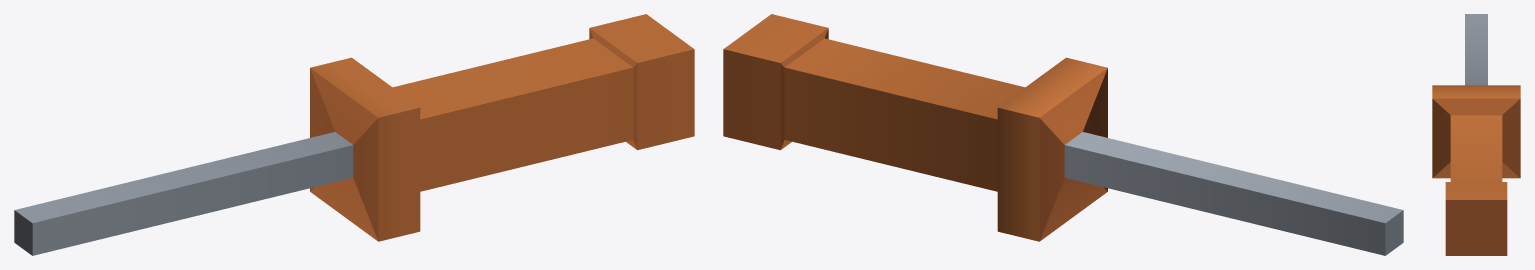
Rendered from AI_Item_Screwdriver.fbx.
3 renders of one model, left to right at view 1: azimuth 30°, elevation 25°; view 2: azimuth 150°, elevation 25°; view 3: azimuth 270°, elevation 25°, orthographic. The views are drawn at different scales.
Parts seen in each view (by area): view 1: AI_Item_Screwdriver; view 2: AI_Item_Screwdriver; view 3: AI_Item_Screwdriver.
Boxes of the visible parts, x1=… form: AI_Item_Screwdriver: x1=14, y1=14, x2=694, y2=255; AI_Item_Screwdriver: x1=723, y1=14, x2=1403, y2=255; AI_Item_Screwdriver: x1=1432, y1=14, x2=1520, y2=255.
Size of the model in its own units: 1 by 0.1831 by 0.1831.
